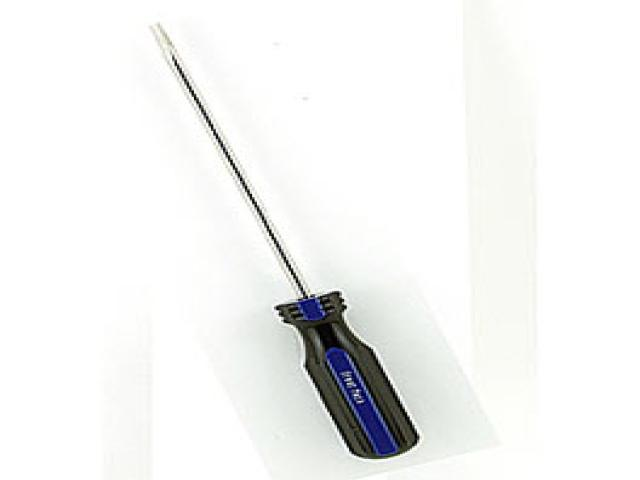Screwdriver: (152, 23, 418, 458)
